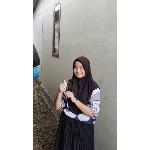Pisau: (60, 65, 74, 93)
